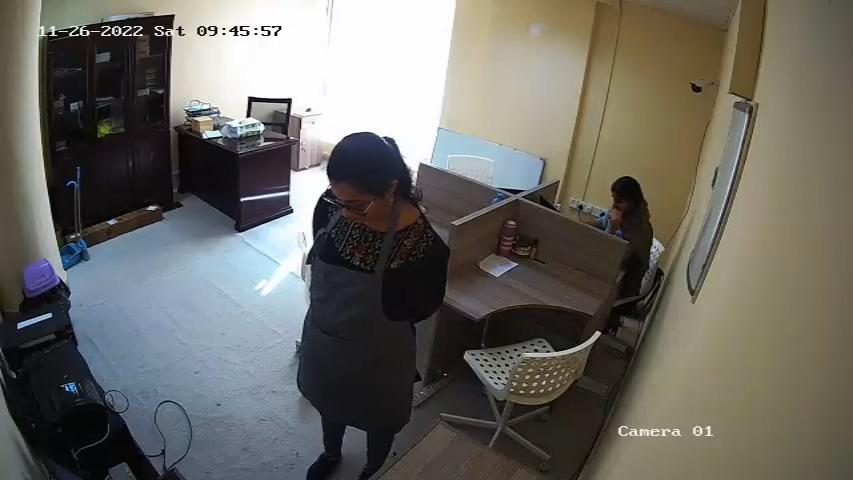apron: (307, 219, 406, 399)
